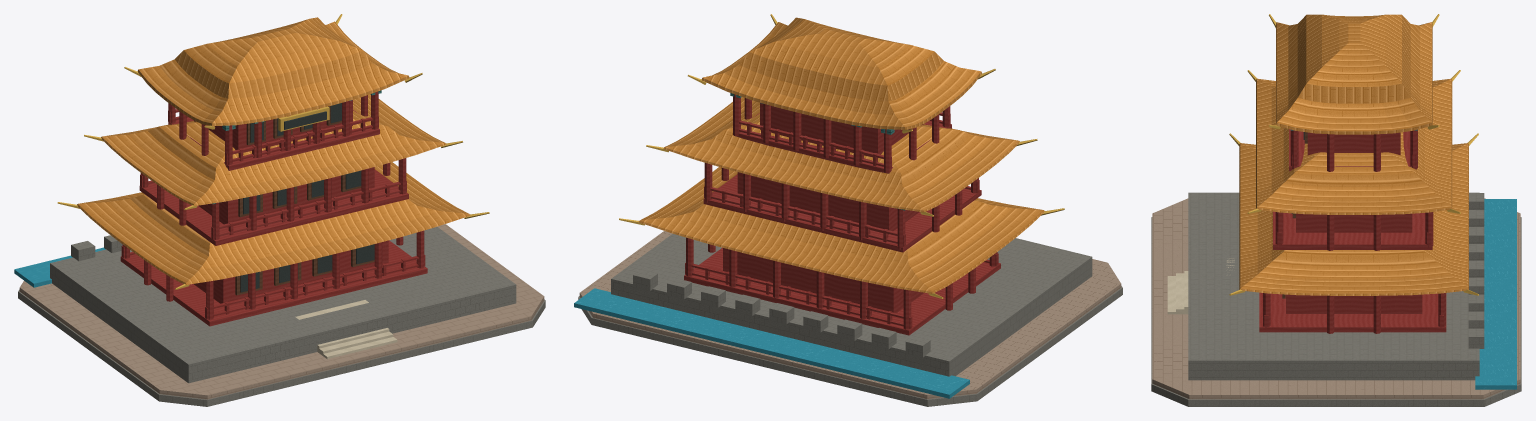
File: yueyang-tower.glb
3 views of the same model, side by side, from view 1: azimuth 30°, elevation 25°; view 2: azimuth 150°, elevation 25°; view 3: azimuth 270°, elevation 25° (orthographic). The views are drawn at different scales.
Visible parts, largest first — view 1: 岳阳楼; view 2: 岳阳楼; view 3: 岳阳楼.
Boxes of the visible parts, left/top/right/bottom form: 岳阳楼: left=14, top=14, right=545, bottom=406; 岳阳楼: left=574, top=14, right=1122, bottom=406; 岳阳楼: left=1151, top=14, right=1521, bottom=406.
Size of the model in its own units: 9.25 by 5.97 by 7.3.
Materials: 11 (11 with a texture image).
